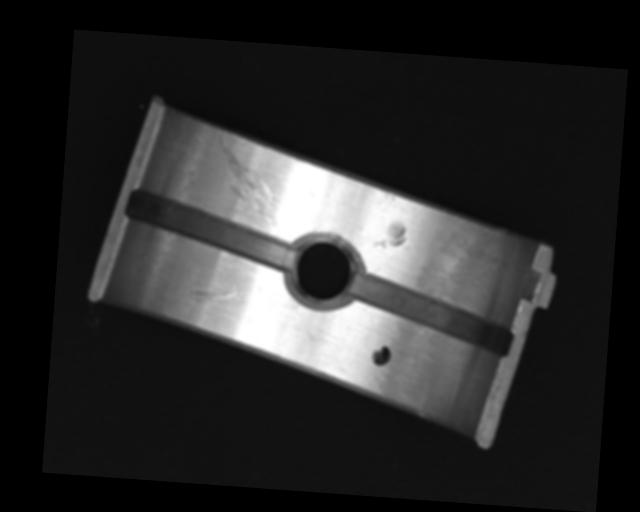blot: (370, 344, 393, 367)
bruise: (373, 219, 407, 249), (379, 189, 397, 203)
gap: (122, 188, 300, 269), (348, 273, 514, 358)
hole: (285, 232, 360, 313)
nick: (214, 135, 285, 229), (188, 285, 248, 305)
